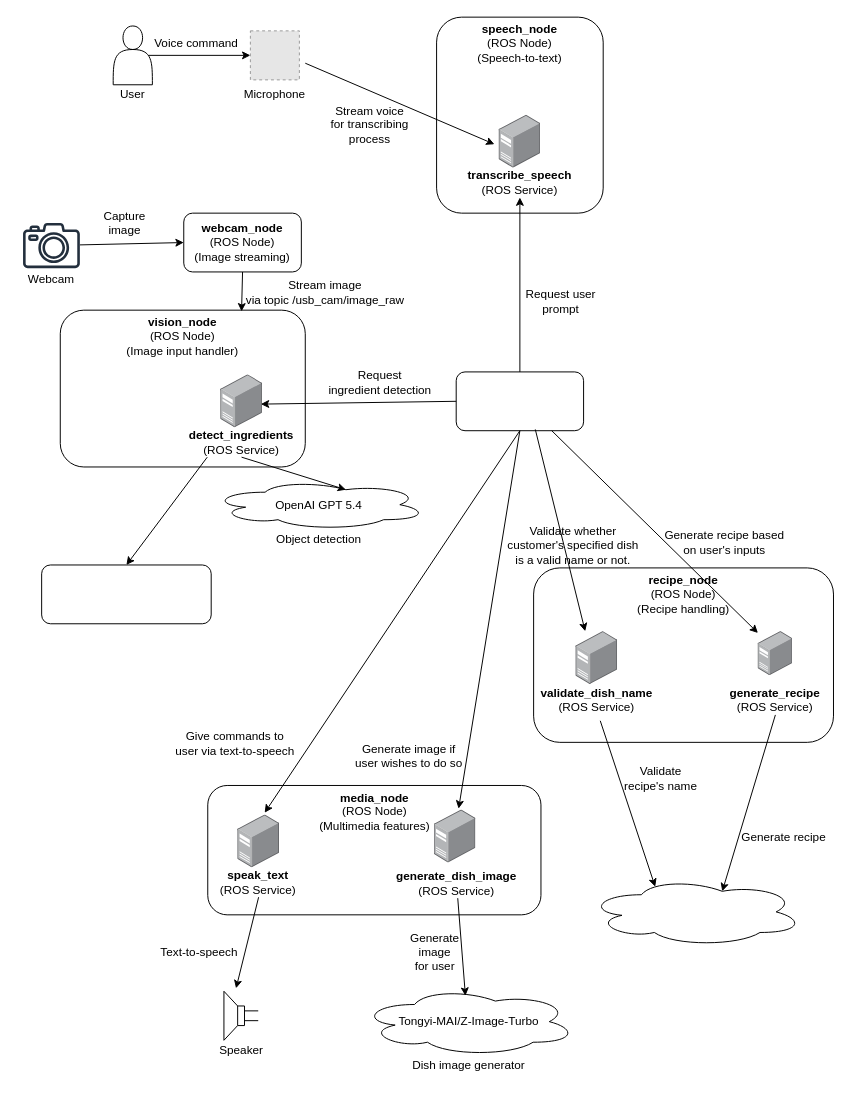
Some shapes in this 851 by 1093 pixel diagram are drawn without their labels. Grey dashed boxes stand in for pictures. The centre of each missing label's shape, as x and y in pixels:
Gemini 3.1 Flash Lite: [695,911]
interaction_manager (ROS Node) (State transition): [519,401]
vision_display_node (ROS Node) (Display detected ingredients): [126,594]
